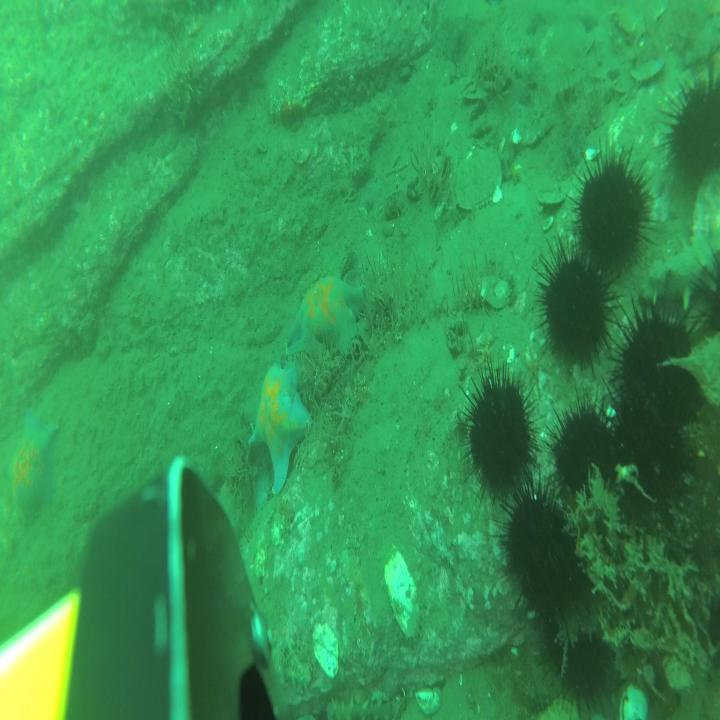echinus: (534, 228, 618, 386), (570, 137, 656, 289), (461, 354, 538, 505), (607, 382, 684, 528), (620, 294, 696, 436), (497, 478, 573, 614), (549, 383, 617, 527), (546, 593, 618, 720), (663, 60, 720, 197), (691, 242, 720, 368), (698, 590, 720, 682)
holothurian: (639, 231, 720, 310), (327, 693, 404, 720)
scallop: (455, 148, 501, 210), (479, 272, 512, 310)
starfish: (248, 358, 312, 497), (6, 403, 60, 536), (285, 271, 363, 360)
